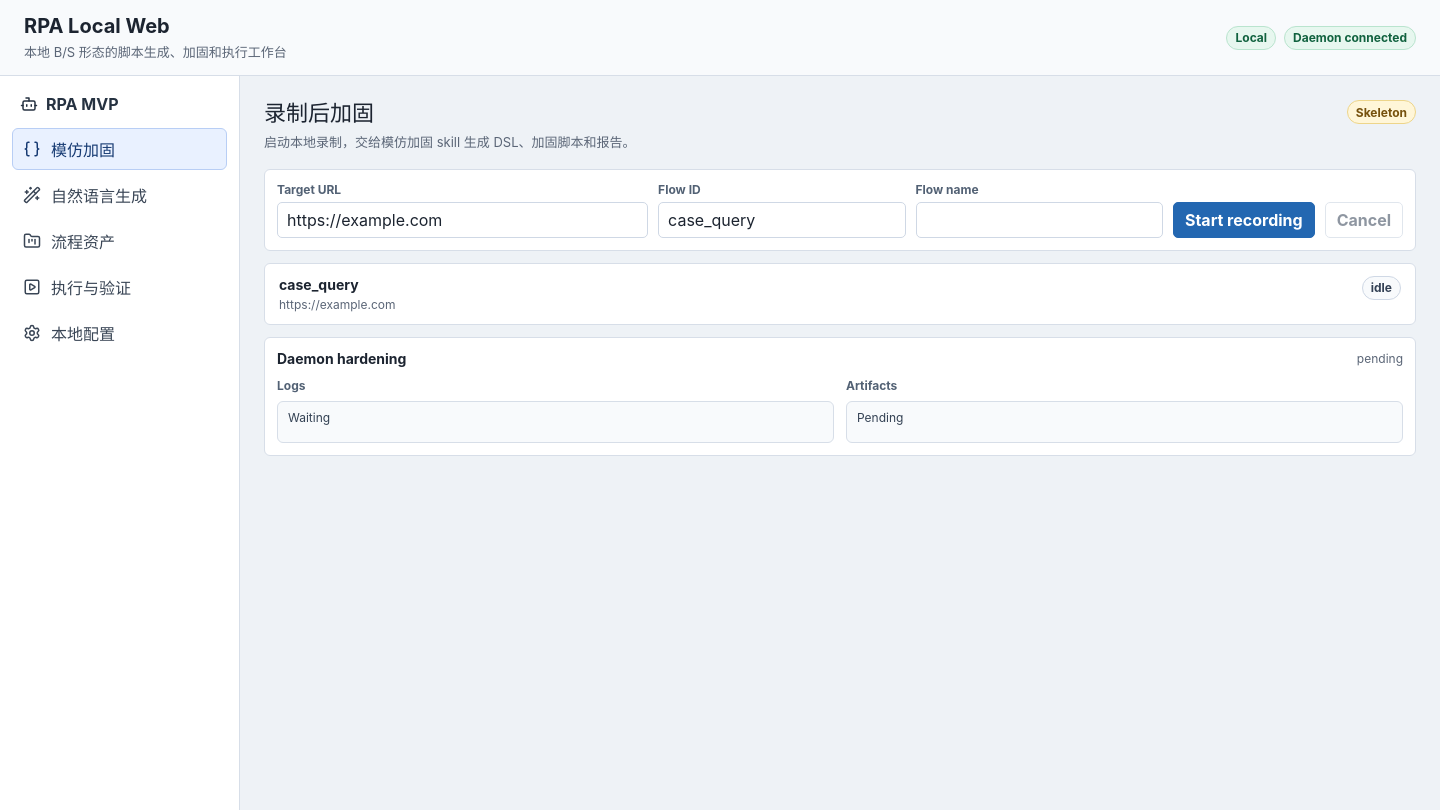
Test case: RPA local web app shell › loads daemon status and renders the real settings view
Expected: the text "Daemon connected" is shown, left=1284, top=26, right=1416, bottom=50
Click the tab "本地配置" at {"x": 120, "y": 333}, box left=12, top=312, right=227, bottom=354
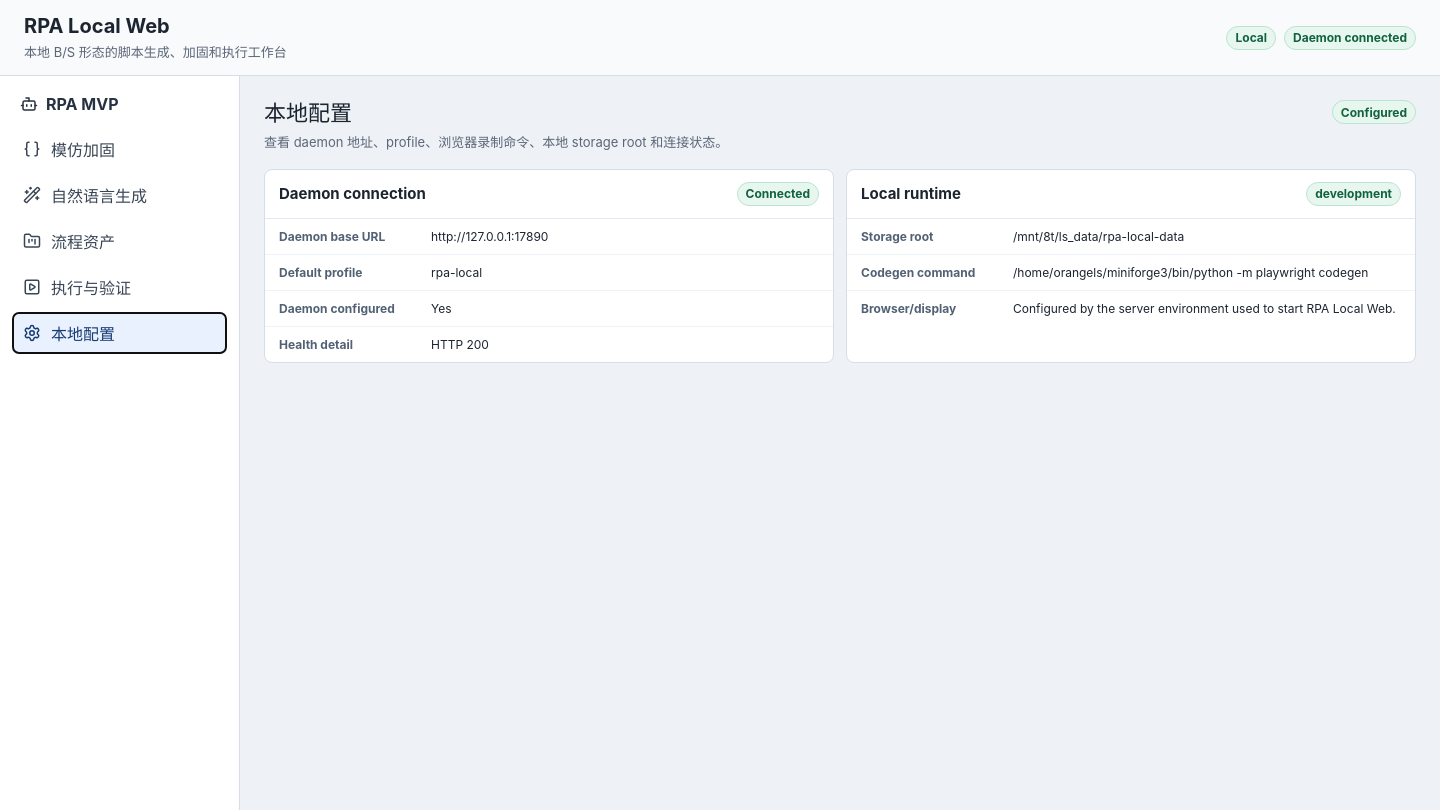
Expected: the text "http://127.0.0.1:17890" is shown, left=431, top=228, right=548, bottom=244
Expected: the text "rpa-local" is shown, left=431, top=264, right=482, bottom=280
Expected: the text "/mnt/8t/ls_data/rpa-local-data" is shown, left=1013, top=228, right=1184, bottom=244
